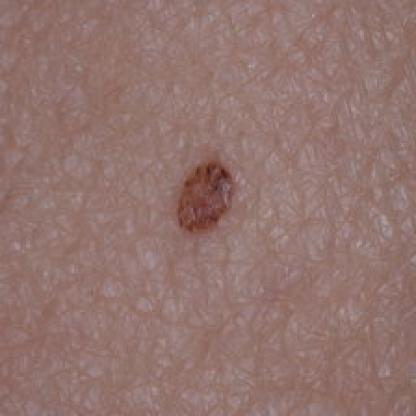Skin_Cancer-Malignant: (176, 159, 236, 236)
